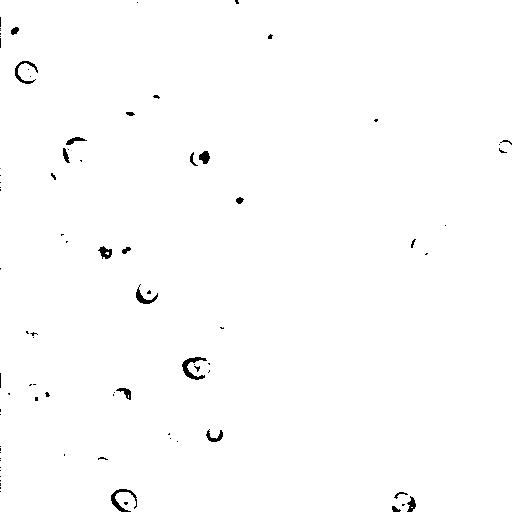micro-algae: (248, 0, 365, 103), (2, 130, 79, 203), (393, 112, 457, 173), (408, 460, 477, 512), (158, 351, 211, 403), (198, 132, 245, 180), (212, 312, 258, 358), (114, 100, 150, 139), (393, 318, 431, 350), (61, 136, 94, 168), (451, 280, 485, 308), (41, 160, 71, 191), (432, 221, 462, 250), (479, 5, 507, 36), (344, 370, 375, 397), (47, 226, 76, 254), (113, 236, 140, 265), (1, 383, 28, 412), (181, 356, 213, 380), (2, 366, 31, 392), (135, 276, 160, 306), (301, 488, 332, 512), (47, 436, 71, 466), (1, 18, 26, 46), (257, 23, 284, 48), (110, 488, 138, 512), (13, 60, 39, 85), (390, 489, 418, 512), (19, 324, 43, 350), (142, 445, 168, 467), (260, 104, 284, 127), (21, 386, 45, 409), (410, 234, 432, 259), (95, 237, 117, 262), (362, 105, 386, 127), (112, 386, 132, 406), (206, 425, 226, 444), (187, 148, 205, 169), (165, 426, 184, 444), (95, 455, 113, 473), (456, 116, 473, 135), (199, 144, 214, 165), (232, 193, 251, 209), (65, 502, 95, 512), (497, 139, 512, 154), (34, 0, 62, 8), (234, 0, 256, 10), (447, 78, 460, 93), (131, 0, 151, 7)
